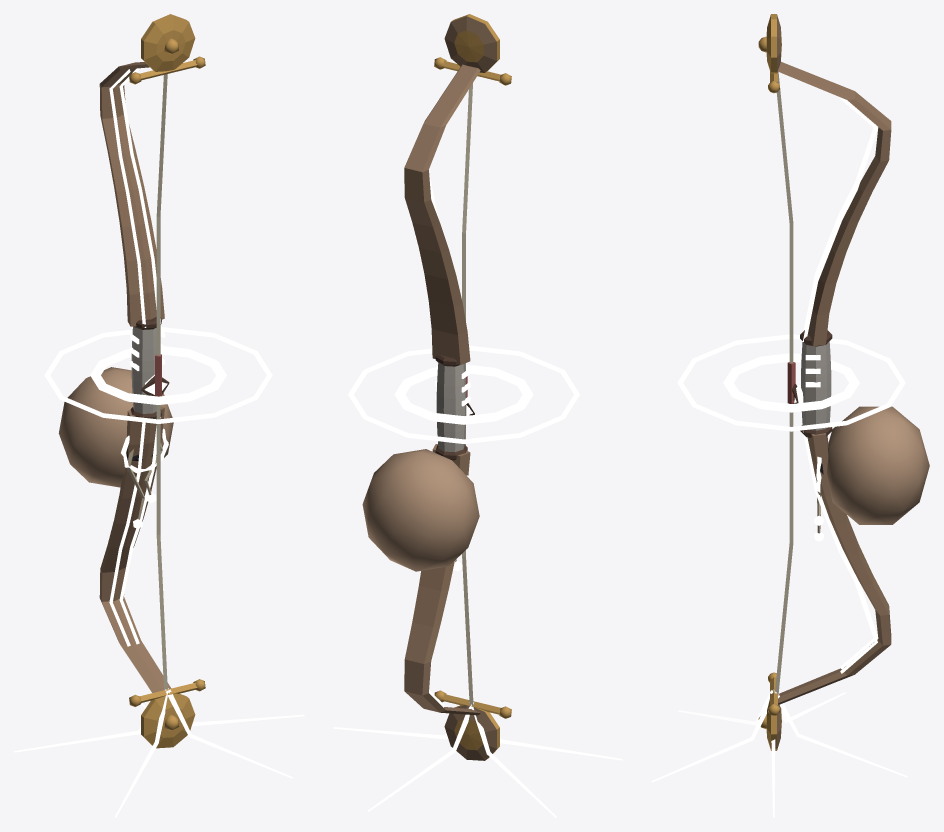
Rendered from bow-snare-string.glb.
The picture shows the model from 3 angles, left to right: view 1: azimuth 30°, elevation 25°; view 2: azimuth 150°, elevation 25°; view 3: azimuth 270°, elevation 25°; orthographic projection.
Visible parts, largest first — view 1: bow-snare-string, string, pulse_vein; view 2: bow-snare-string, string; view 3: bow-snare-string, string, pulse_vein.
Part boxes in pixels (x1,y1,x2,y2): bow-snare-string: (14, 14, 304, 817); string: (44, 74, 272, 690); pulse_vein: (109, 68, 161, 646); bow-snare-string: (333, 14, 622, 817); string: (348, 83, 579, 706); bow-snare-string: (651, 14, 929, 817); string: (677, 72, 905, 695); pulse_vein: (802, 97, 877, 673).
Bounding box in the file's own units: 0.5952 × 1.66 × 0.5634.
